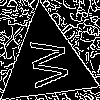W: (21, 37, 69, 90)
